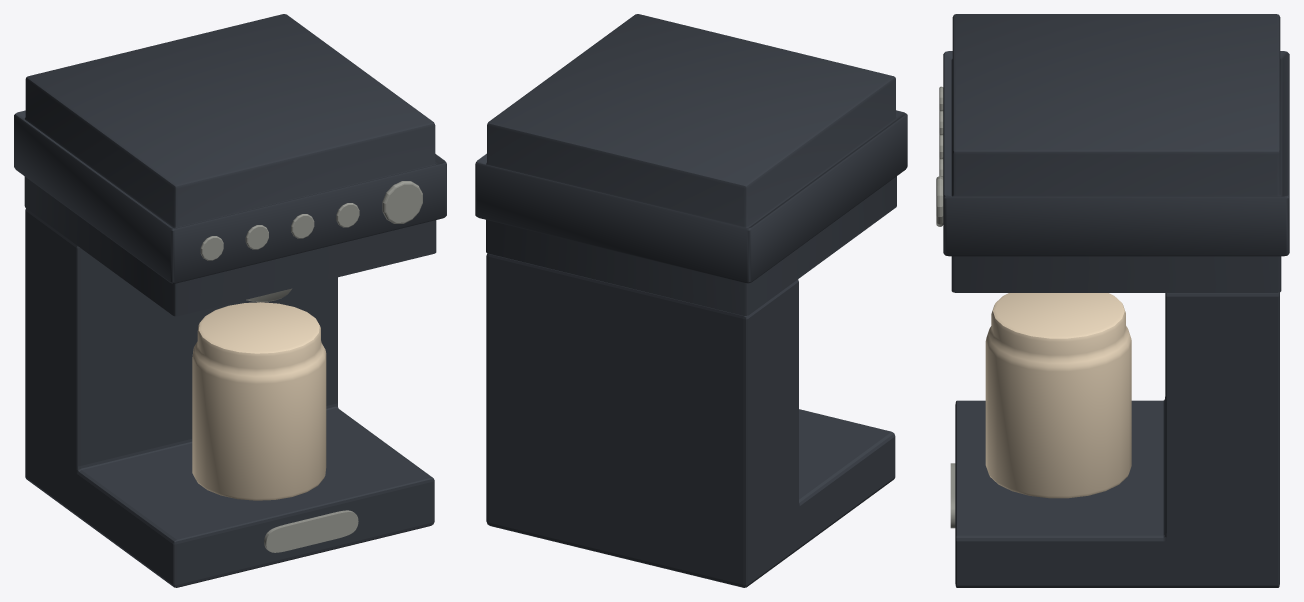
The model's file is Machine4.fbx.
3 views of the same model, side by side, from view 1: azimuth 30°, elevation 25°; view 2: azimuth 150°, elevation 25°; view 3: azimuth 270°, elevation 25° (orthographic). The views are drawn at different scales.
Parts seen in each view (by area): view 1: Machine4; view 2: Machine4; view 3: Machine4.
Boxes of the visible parts, box(x1,y1,x2,y2) form: Machine4: box(14, 14, 446, 587); Machine4: box(475, 14, 907, 587); Machine4: box(936, 14, 1289, 587).
Bounding box in the file's own units: 177 × 248 × 181.
